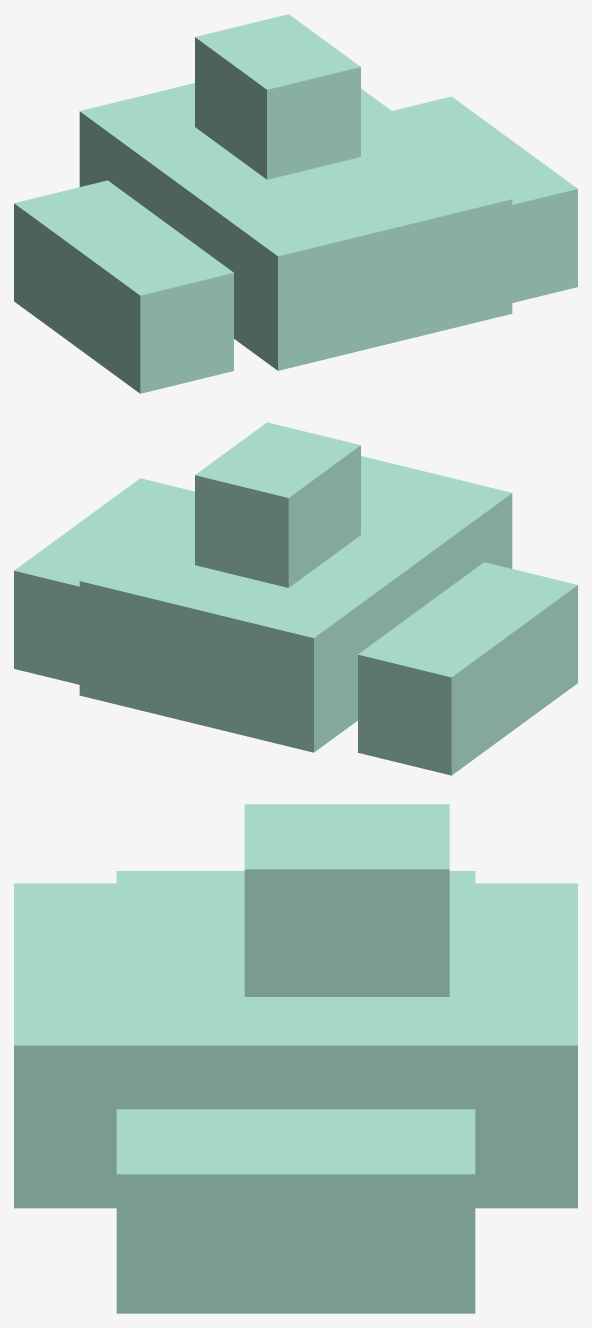
Rendered from scout.gltf.
The picture shows the model from 3 angles, top to bottom: view 1: azimuth 30°, elevation 25°; view 2: azimuth 150°, elevation 25°; view 3: azimuth 270°, elevation 25°; orthographic projection. The views are drawn at different scales.
Visible parts, largest first — view 1: scout; view 2: scout; view 3: scout.
Part boxes in pixels (x1,y1,x2,y2): scout: (14,14,577,393); scout: (14,422,577,775); scout: (14,804,577,1313).
Size of the model in its own units: 1.4 by 0.7 by 1.1.
